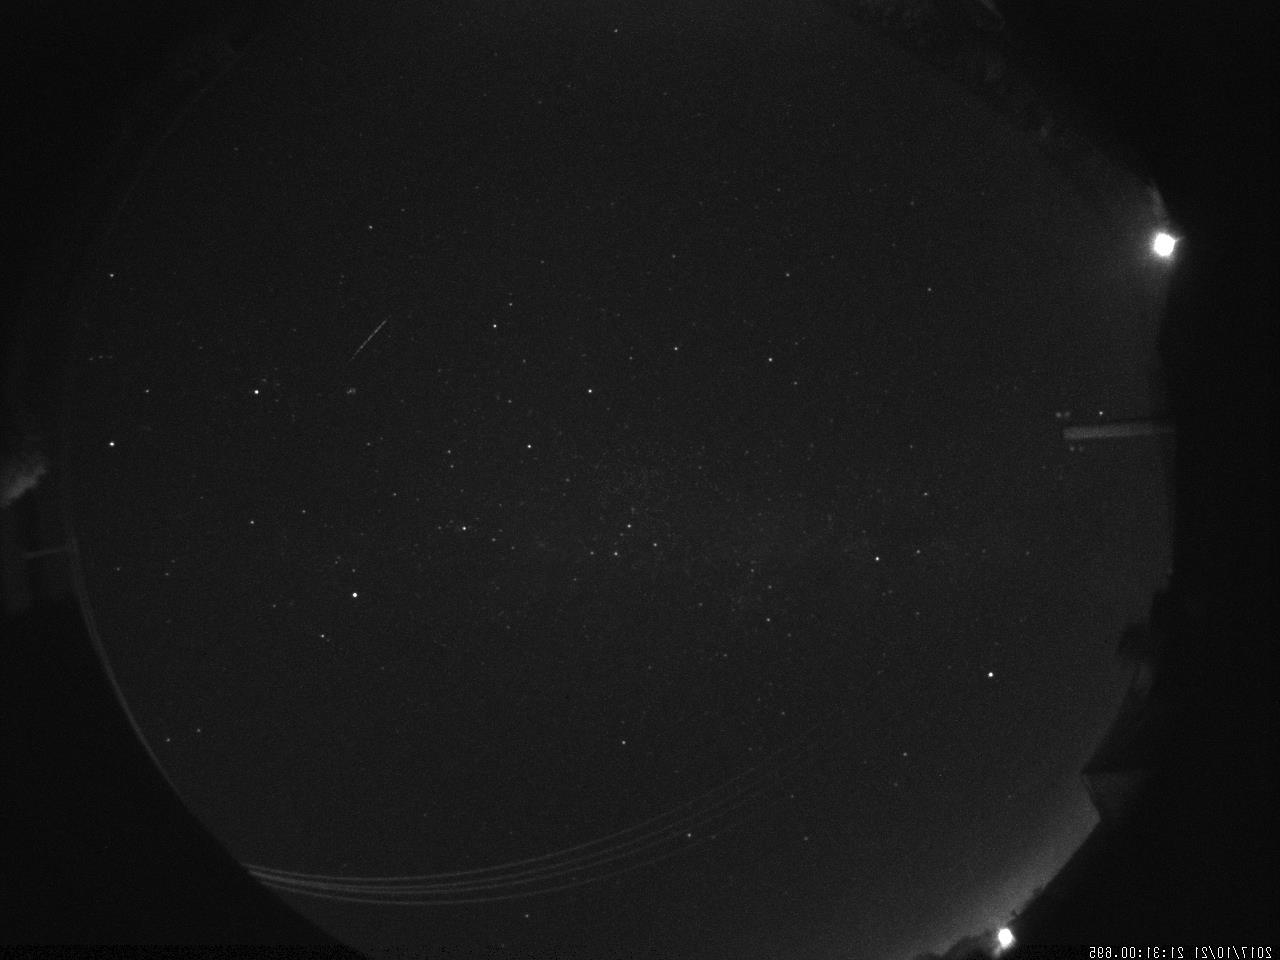meteor: (333, 311, 398, 370)
